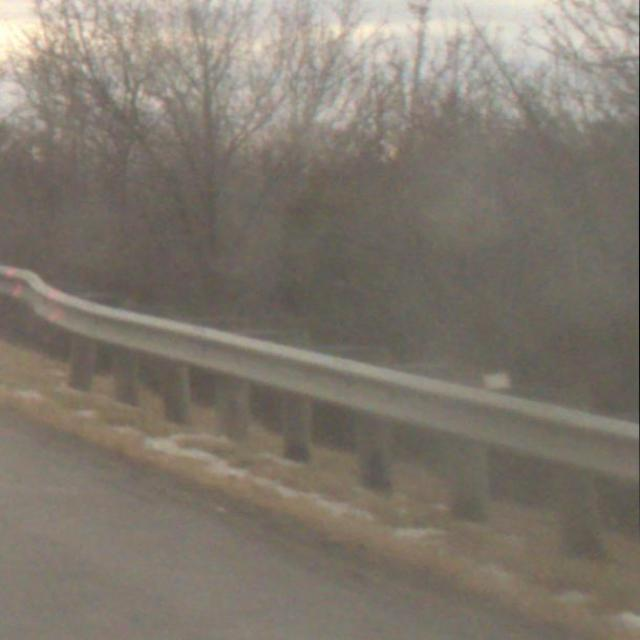Guard rail: (0, 266, 640, 566)
